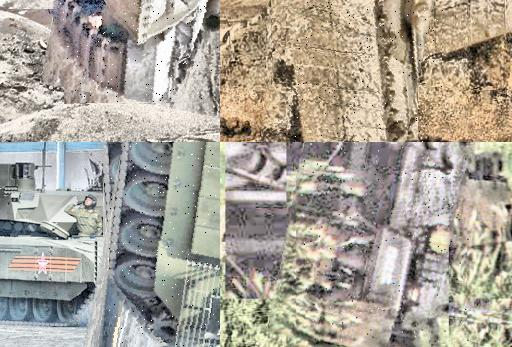tanks: (297, 143, 469, 347), (1, 165, 216, 327), (110, 143, 221, 347), (290, 1, 436, 143), (54, 1, 221, 104), (507, 263, 512, 280)
